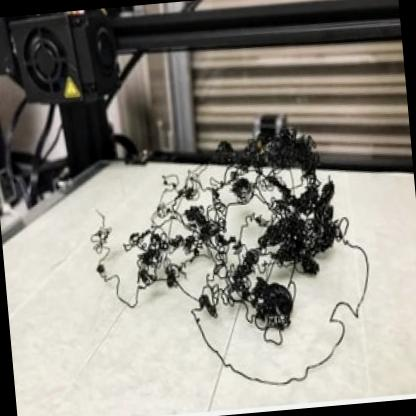fail: (90, 174, 389, 398)
